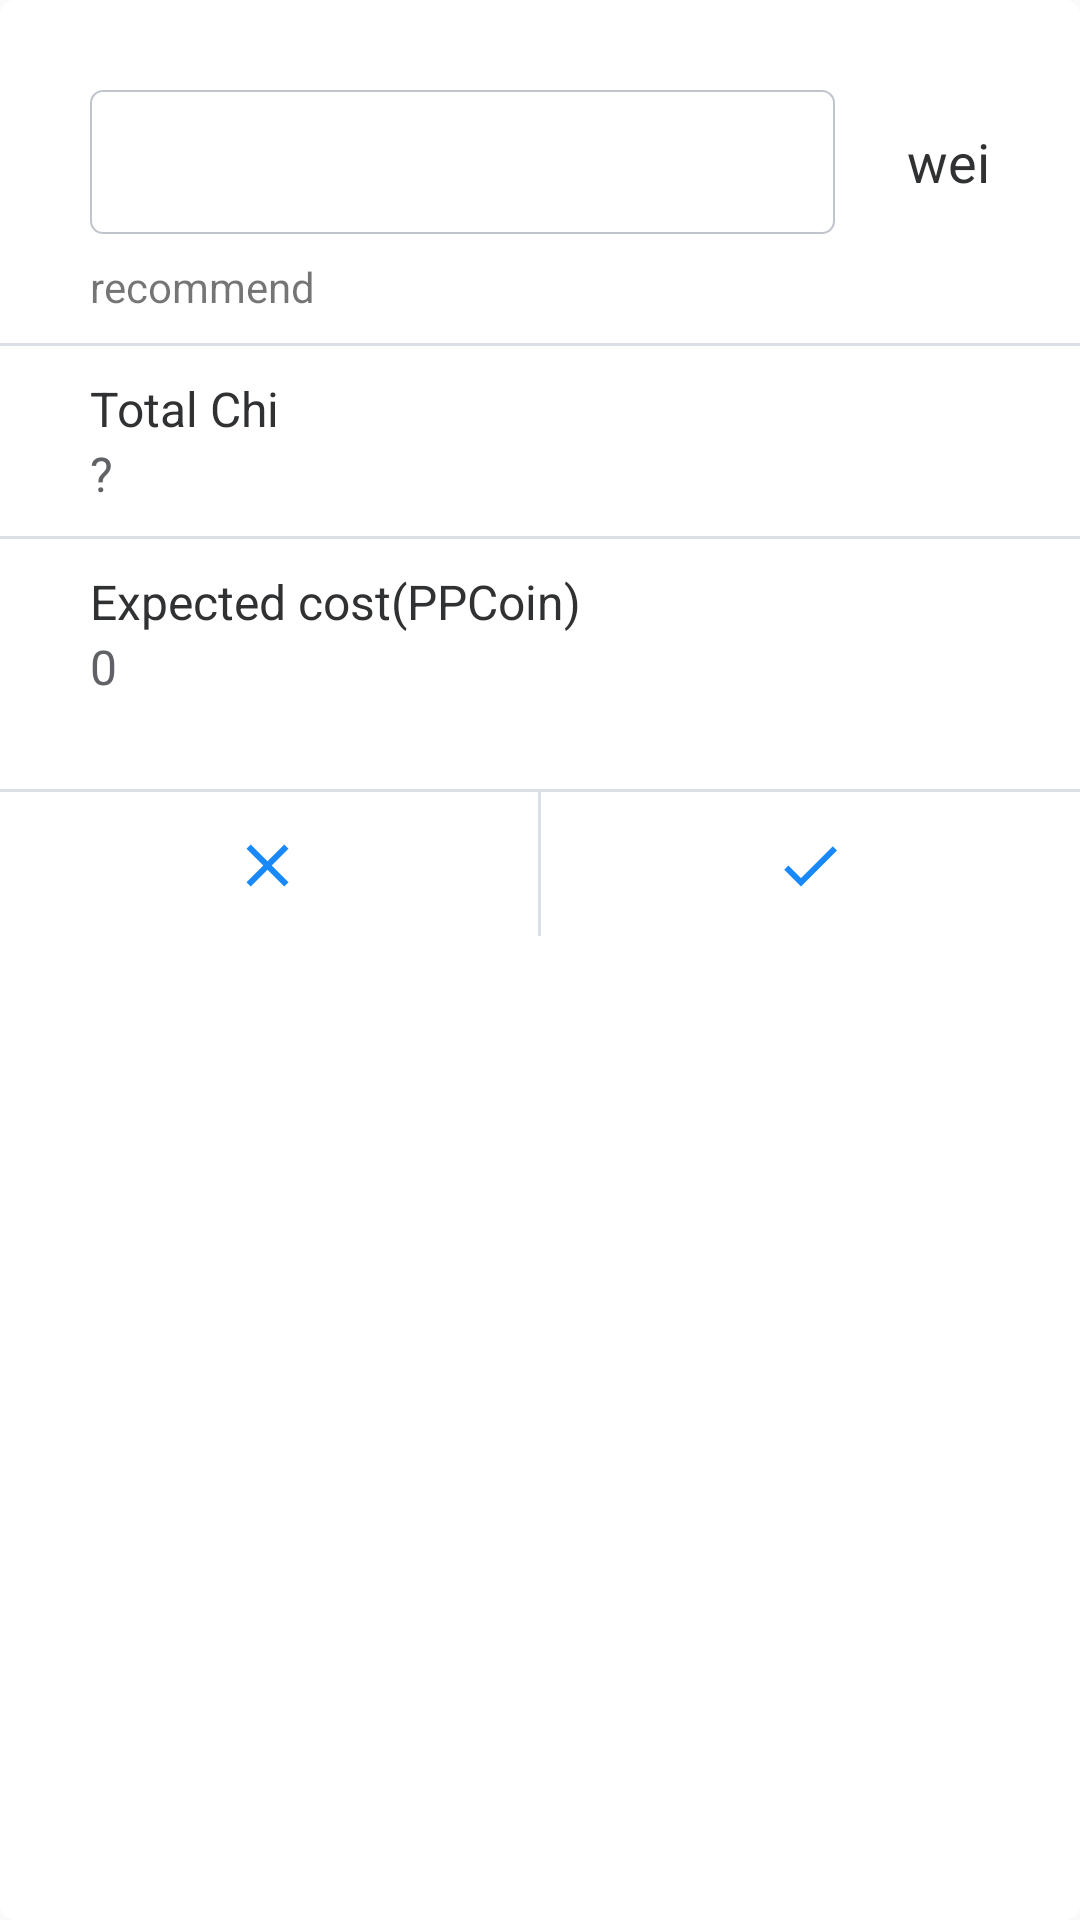

Icon click points for this 1080px×1920px phone screenshot, format (x,y):
cancel: (267,865)
